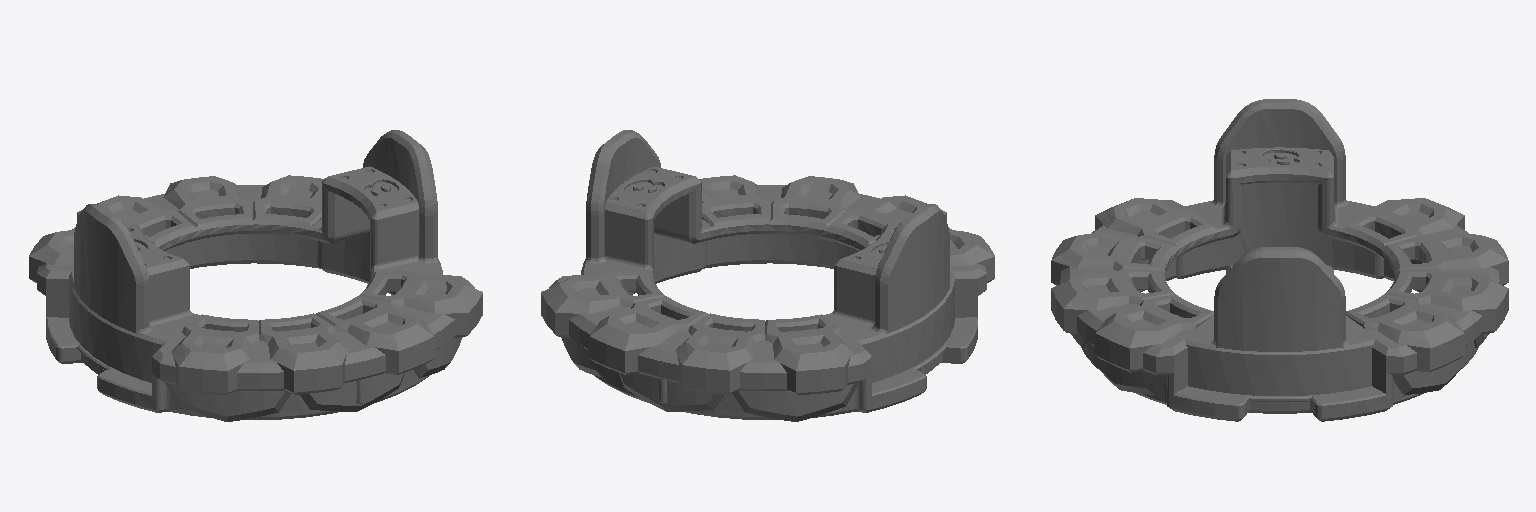
Rendered from 8disk.obj.
The picture shows the model from 3 angles: view 1: azimuth 30°, elevation 25°; view 2: azimuth 150°, elevation 25°; view 3: azimuth 270°, elevation 25°; orthographic projection.
Parts seen in each view (by area): view 1: Mesh_0021out.002; view 2: Mesh_0021out.002; view 3: Mesh_0021out.002.
Part boxes in pixels (x1,y1,x2,y2): Mesh_0021out.002: (29,130,482,421); Mesh_0021out.002: (541,130,994,421); Mesh_0021out.002: (1051,99,1508,421).
Bounding box in the file's own units: 0.3566 × 0.1551 × 0.3959.